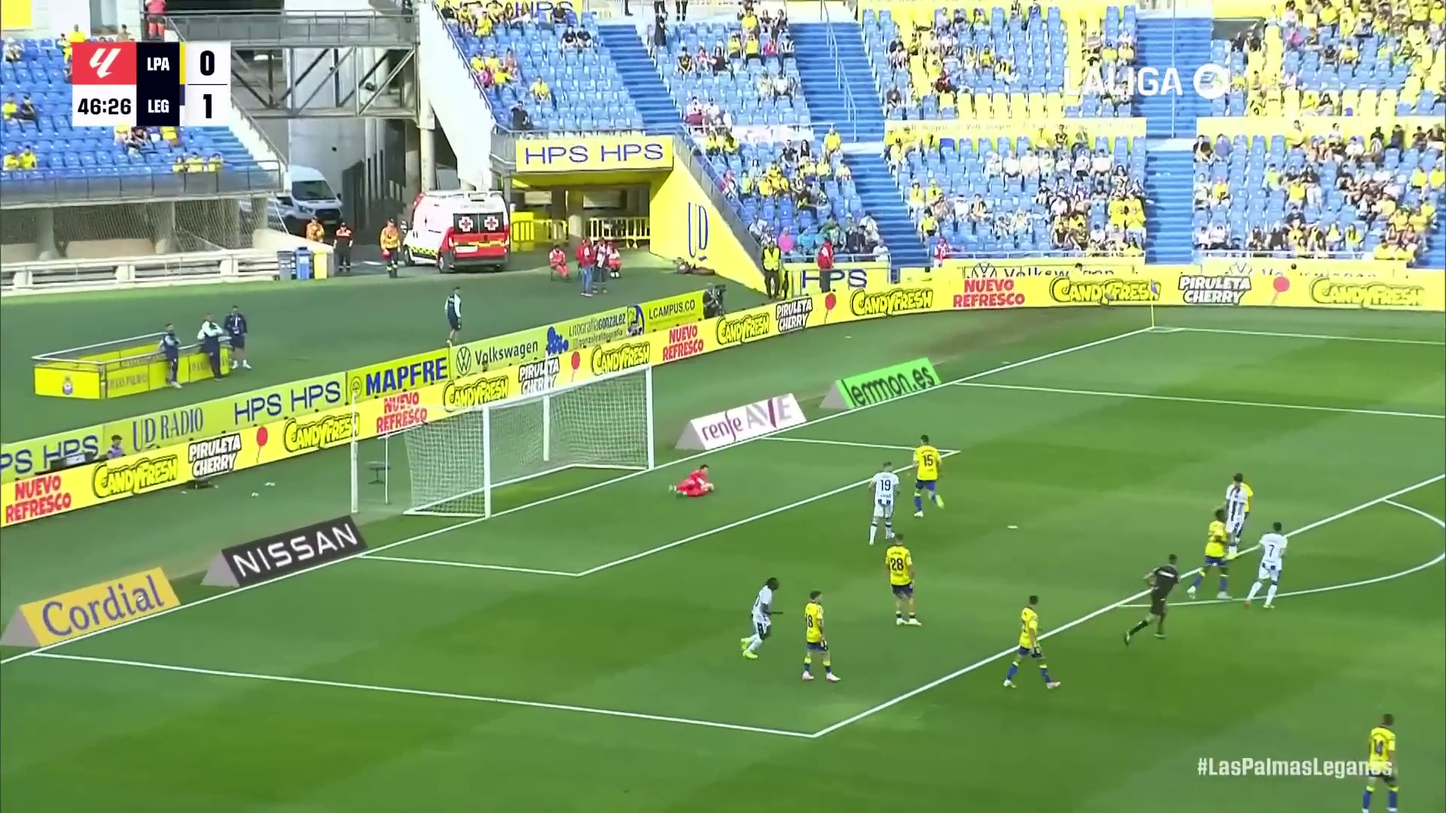player: (999, 593, 1063, 693), (1353, 712, 1408, 813), (1183, 509, 1239, 603), (906, 434, 961, 520), (1242, 520, 1292, 612), (796, 589, 843, 686), (735, 575, 786, 662), (879, 535, 926, 629), (862, 461, 904, 546), (1222, 472, 1256, 560), (667, 463, 718, 501), (1221, 472, 1256, 521)
referee: (1120, 552, 1184, 649)
